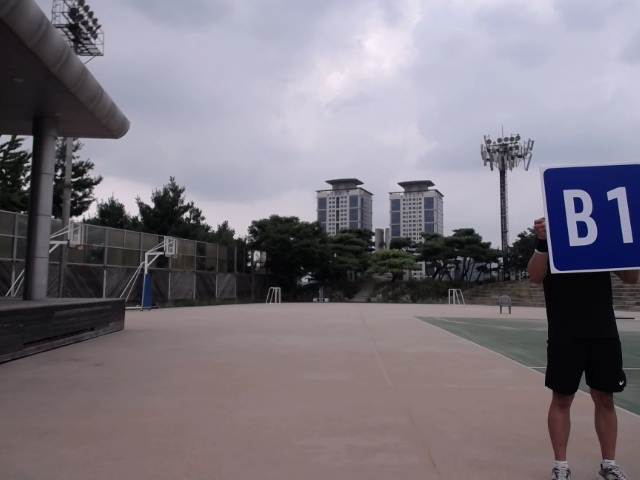delivery_b1: (542, 163, 639, 273)
